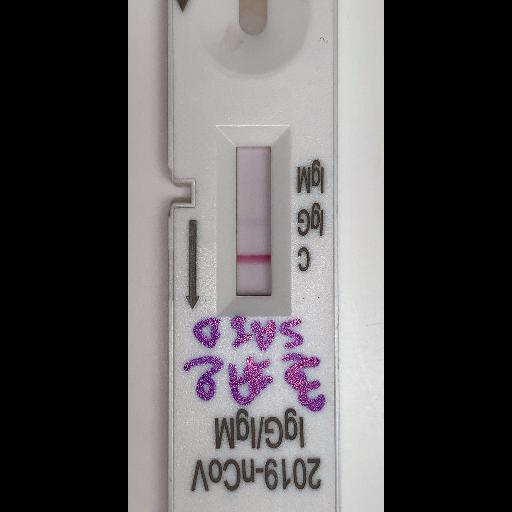Pos: (164, 0, 334, 508)
